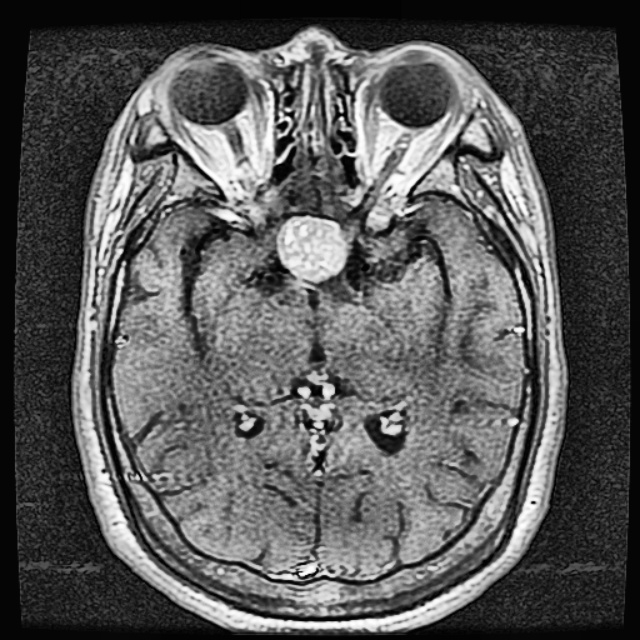Pituitary: (279, 217, 347, 278)
